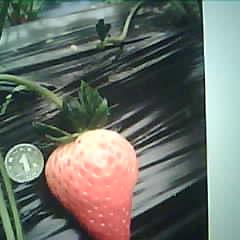straw-ripe: (45, 129, 137, 240)
